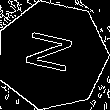N_E: (23, 30, 82, 80)
